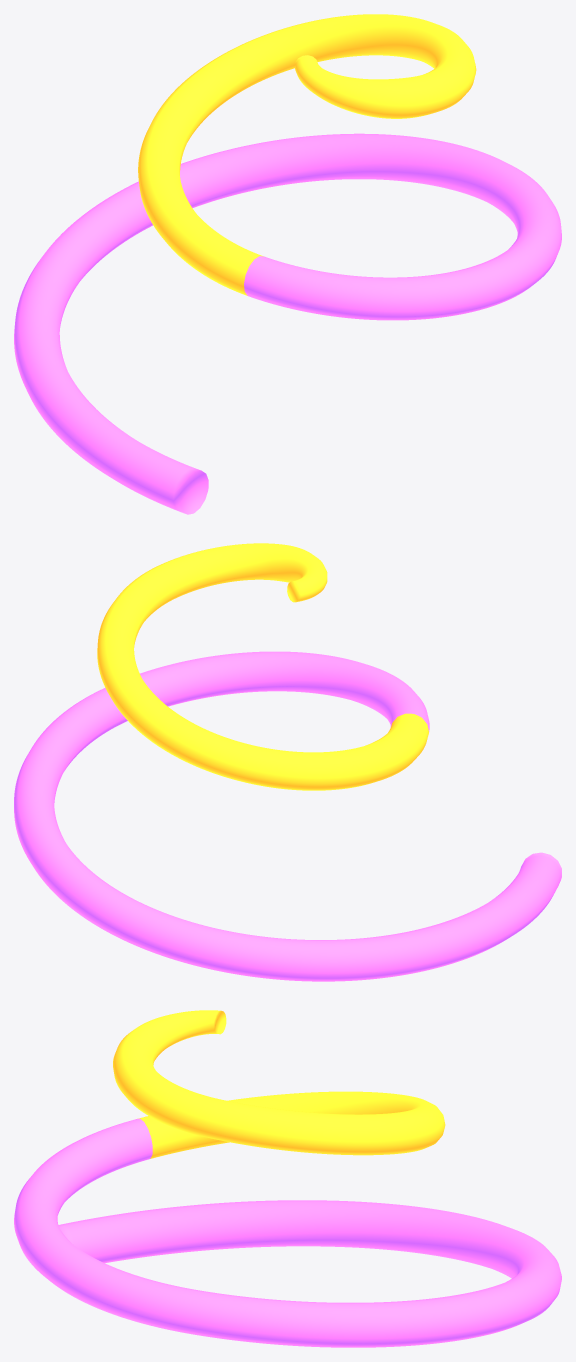
Rendered from echovenator_noodle.glb.
3 renders of one model, top to bottom at view 1: azimuth 30°, elevation 25°; view 2: azimuth 150°, elevation 25°; view 3: azimuth 270°, elevation 25°, orthographic. The views are drawn at different scales.
Visible parts, largest first — view 1: Echovenator | TURN COUNT NOODLE | T00_100, Echovenator | TURN COUNT NOODLE | T100_200; view 2: Echovenator | TURN COUNT NOODLE | T00_100, Echovenator | TURN COUNT NOODLE | T100_200; view 3: Echovenator | TURN COUNT NOODLE | T00_100, Echovenator | TURN COUNT NOODLE | T100_200.
Boxes of the visible parts, box(x1,y1,x2,y2) form: Echovenator | TURN COUNT NOODLE | T00_100: box(14, 133, 561, 514); Echovenator | TURN COUNT NOODLE | T100_200: box(138, 14, 476, 295); Echovenator | TURN COUNT NOODLE | T00_100: box(14, 651, 561, 981); Echovenator | TURN COUNT NOODLE | T100_200: box(97, 543, 428, 790); Echovenator | TURN COUNT NOODLE | T00_100: box(14, 1118, 561, 1347); Echovenator | TURN COUNT NOODLE | T100_200: box(113, 1010, 445, 1158).
Size of the model in its own units: 7.51 by 5.26 by 7.45.
